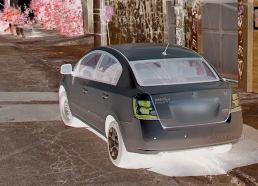car: (57, 44, 244, 170)
